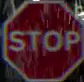Stop: (2, 2, 83, 81)
